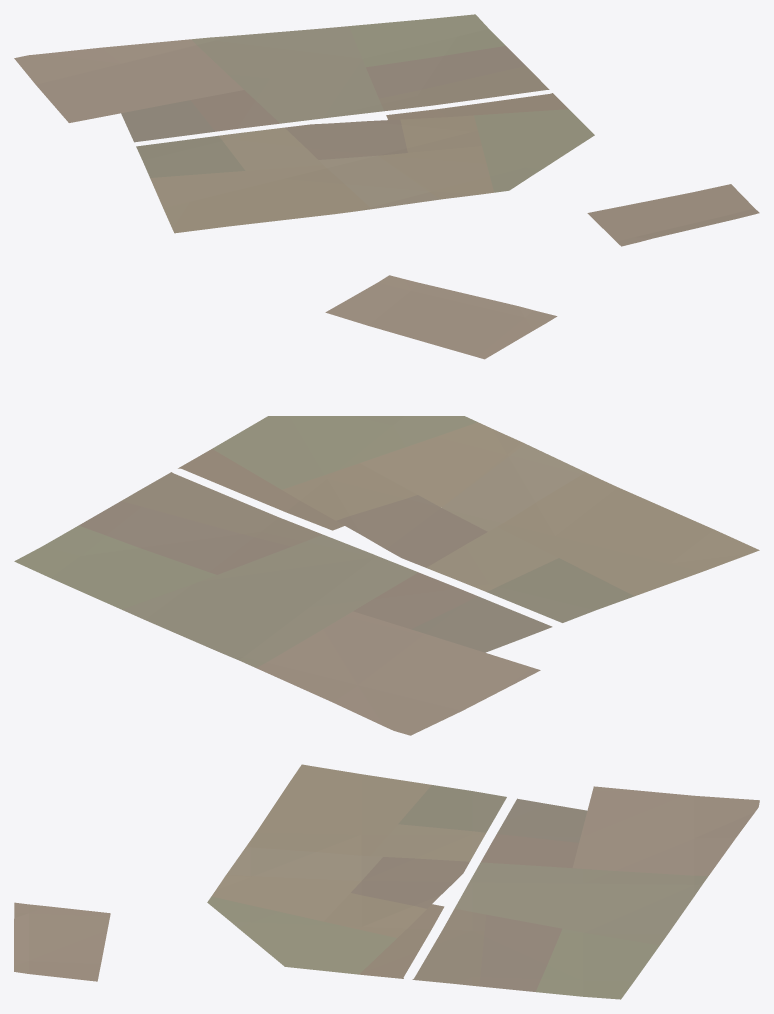
Rendered from farm_7_-1_soil.glb.
3 renders of one model, top to bottom at view 1: azimuth 30°, elevation 25°; view 2: azimuth 150°, elevation 25°; view 3: azimuth 270°, elevation 25°, orthographic. The views are drawn at different scales.
Parts seen in each view (by area): view 1: geometry_0; view 2: geometry_0; view 3: geometry_0.
Part boxes in pixels (<box>): geometry_0: <box>14,14,759,246</box>; geometry_0: <box>14,275,759,735</box>; geometry_0: <box>14,764,759,999</box>.
Bounding box in the file's own units: 390 × 17.75 × 538.
